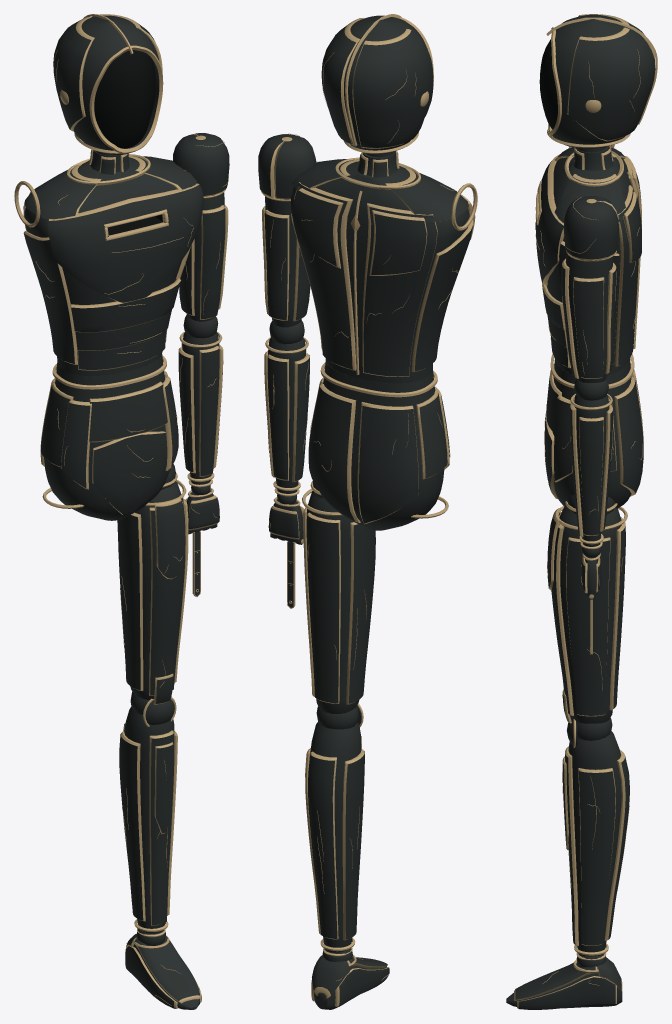
Rendered from Passenger_Parts.fbx.
The picture shows the model from 3 angles, left to right: view 1: azimuth 30°, elevation 25°; view 2: azimuth 150°, elevation 25°; view 3: azimuth 270°, elevation 25°; orthographic projection. The views are drawn at different scales.
Parts seen in each view (by area): view 1: Part_Chest, Part_Hips, Part_Thigh, Part_Shin, Part_Head, Part_UpperArm, Part_Forearm, Part_FacePlate, Part_Foot, Part_Hand, Part_FingerTag; view 2: Part_Chest, Part_Hips, Part_Head, Part_Thigh, Part_Shin, Part_UpperArm, Part_Forearm, Part_Foot, Part_Hand, Part_FingerTag; view 3: Part_Shin, Part_Thigh, Part_Chest, Part_Head, Part_UpperArm, Part_Hips, Part_Forearm, Part_Foot, Part_FacePlate, Part_Hand.
Part boxes in pixels (x1=…): Part_Chest: x1=14, y1=149, x2=203, y2=376; Part_Hips: x1=40, y1=354, x2=178, y2=520; Part_Thigh: x1=117, y1=464, x2=188, y2=704; Part_Shin: x1=119, y1=692, x2=177, y2=937; Part_Head: x1=53, y1=14, x2=163, y2=155; Part_UpperArm: x1=173, y1=133, x2=229, y2=321; Part_Forearm: x1=178, y1=315, x2=223, y2=487; Part_FacePlate: x1=94, y1=50, x2=155, y2=148; Part_Foot: x1=125, y1=929, x2=201, y2=1009; Part_Hand: x1=185, y1=485, x2=219, y2=534; Part_FingerTag: x1=192, y1=531, x2=200, y2=596; Part_Chest: x1=291, y1=150, x2=477, y2=383; Part_Hips: x1=308, y1=360, x2=450, y2=530; Part_Head: x1=321, y1=14, x2=433, y2=157; Part_Thigh: x1=302, y1=481, x2=375, y2=713; Part_Shin: x1=305, y1=703, x2=364, y2=956; Part_UpperArm: x1=258, y1=133, x2=316, y2=327; Part_Forearm: x1=264, y1=320, x2=309, y2=496; Part_Foot: x1=311, y1=948, x2=389, y2=1009; Part_Hand: x1=268, y1=494, x2=303, y2=544; Part_FingerTag: x1=287, y1=541, x2=295, y2=608; Part_Shin: x1=562, y1=716, x2=629, y2=960; Part_Thigh: x1=547, y1=494, x2=627, y2=723; Part_Chest: x1=535, y1=144, x2=641, y2=375; Part_Head: x1=546, y1=14, x2=657, y2=152; Part_UpperArm: x1=561, y1=196, x2=618, y2=382; Part_Hips: x1=544, y1=353, x2=643, y2=511; Part_Forearm: x1=570, y1=378, x2=613, y2=549; Part_Foot: x1=506, y1=953, x2=622, y2=1009; Part_FacePlate: x1=539, y1=39, x2=557, y2=129; Part_Hand: x1=581, y1=547, x2=601, y2=599.
Bounding box in the file's own units: 0.464 × 2.15 × 0.3054.
